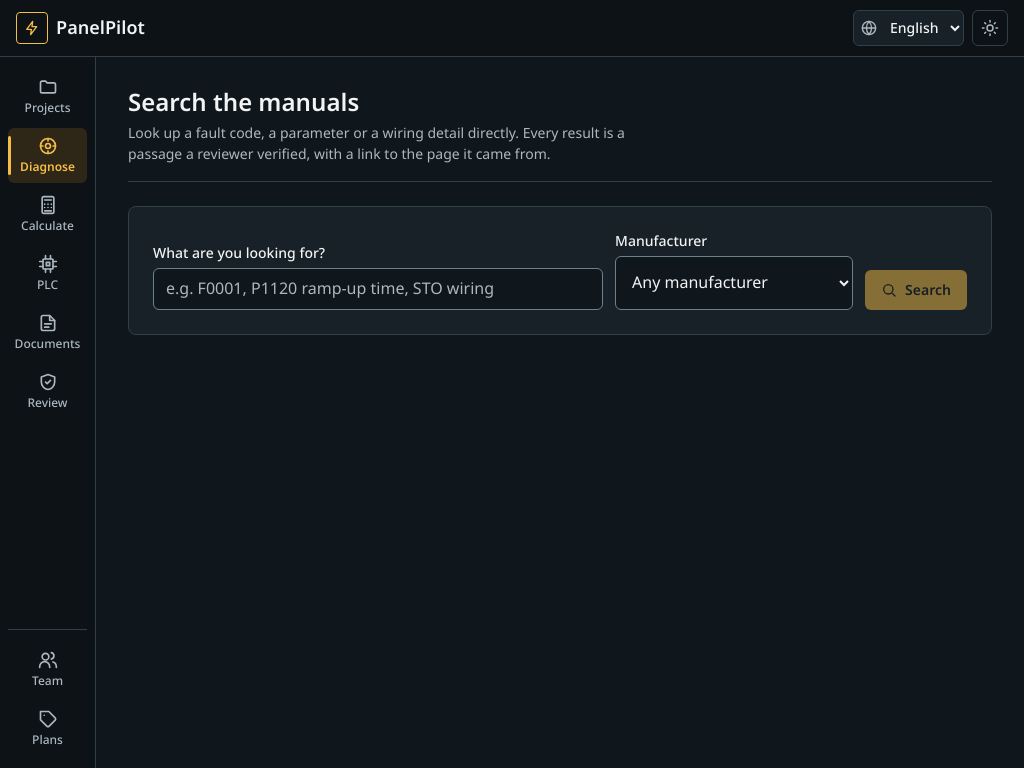
it: the search page › says so when retrieval is down
Type "F0001" into the search field labelled "What are you looking for?".
click(378, 289); type("F0001")  # box [153,268,603,310]
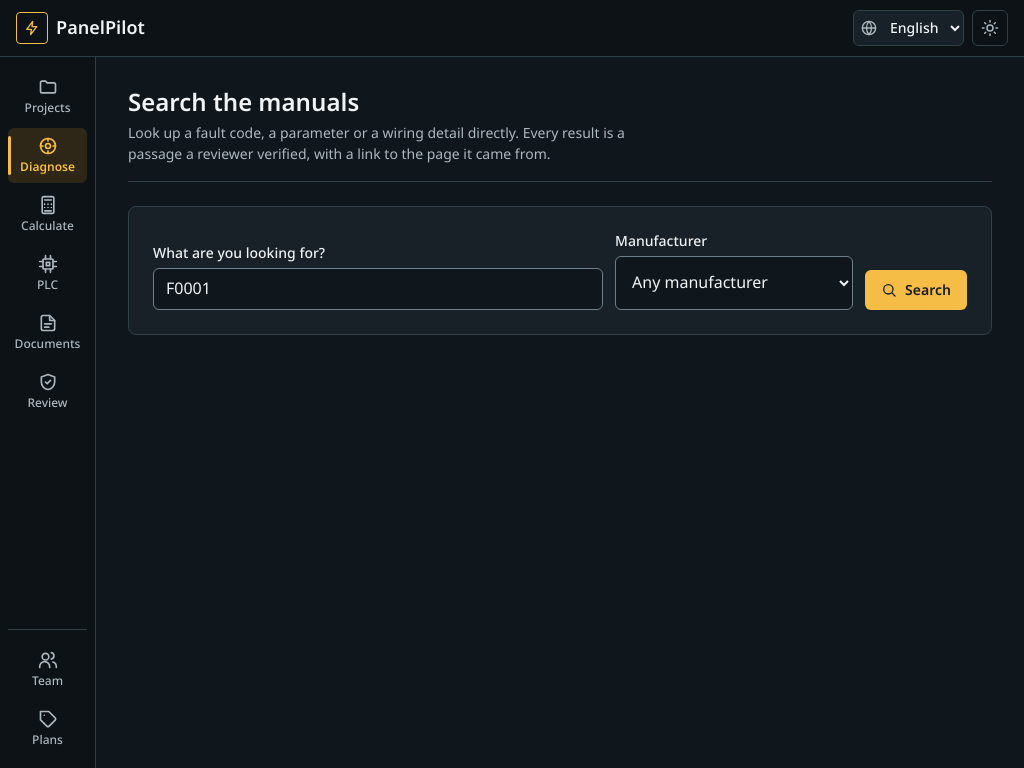
Expected: the button "Search" is enabled
Click the button "Search".
click(916, 290)  # box [865,270,967,310]
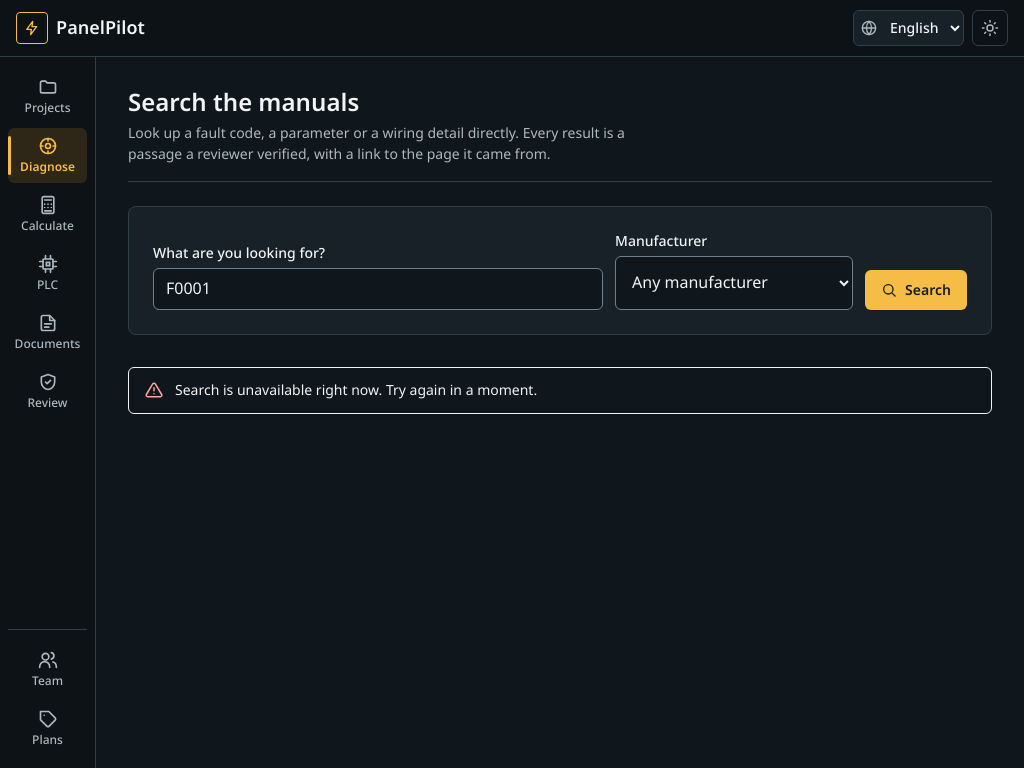
Expected: the message with test id "search-error" shows "unavailable", [175,376,537,405]
